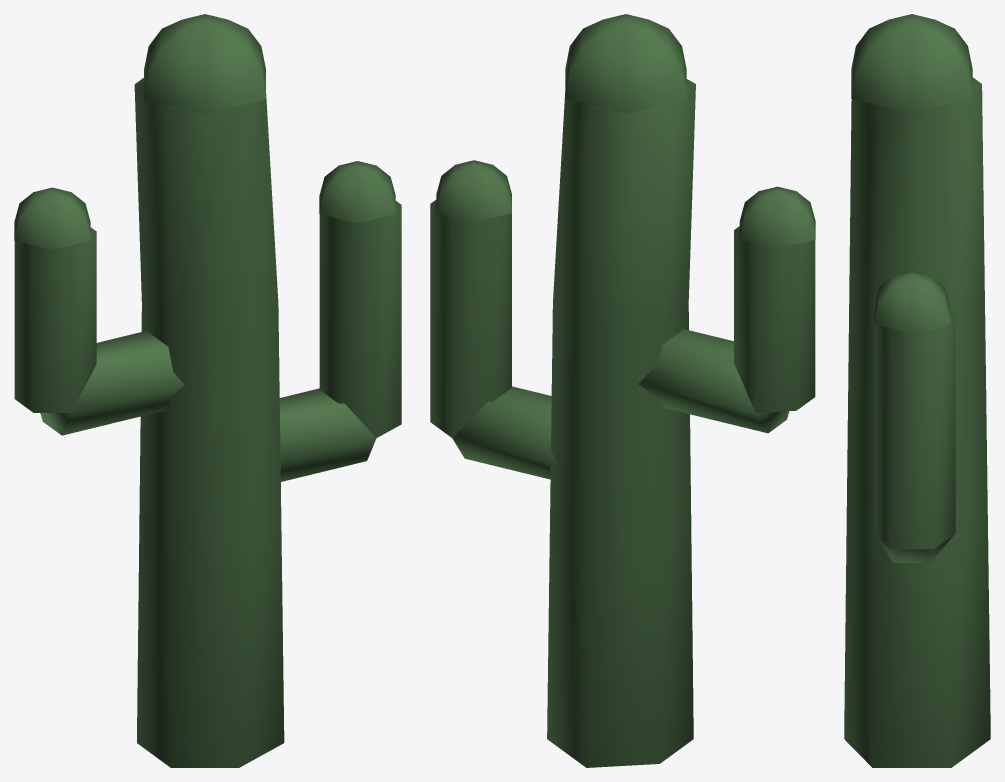
The model's file is atlas_cactus.glb.
3 views of the same model, side by side, from view 1: azimuth 30°, elevation 25°; view 2: azimuth 150°, elevation 25°; view 3: azimuth 270°, elevation 25° (orthographic).
Parts seen in each view (by area): view 1: part_0; view 2: part_0; view 3: part_0.
Boxes of the visible parts, <box> form: part_0: <box>14,14,401,767</box>; part_0: <box>430,14,815,767</box>; part_0: <box>844,14,990,767</box>.
Bounding box in the file's own units: 1 × 1.81 × 0.3348.
